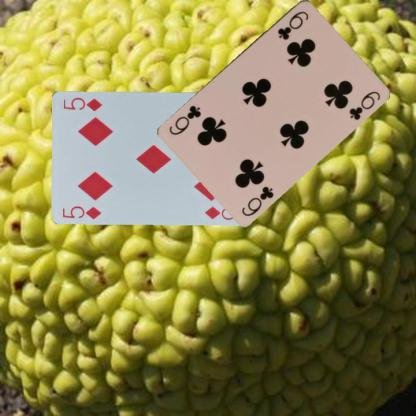5d: (60, 204, 103, 220)
6c: (239, 183, 275, 217), (275, 8, 310, 41)
